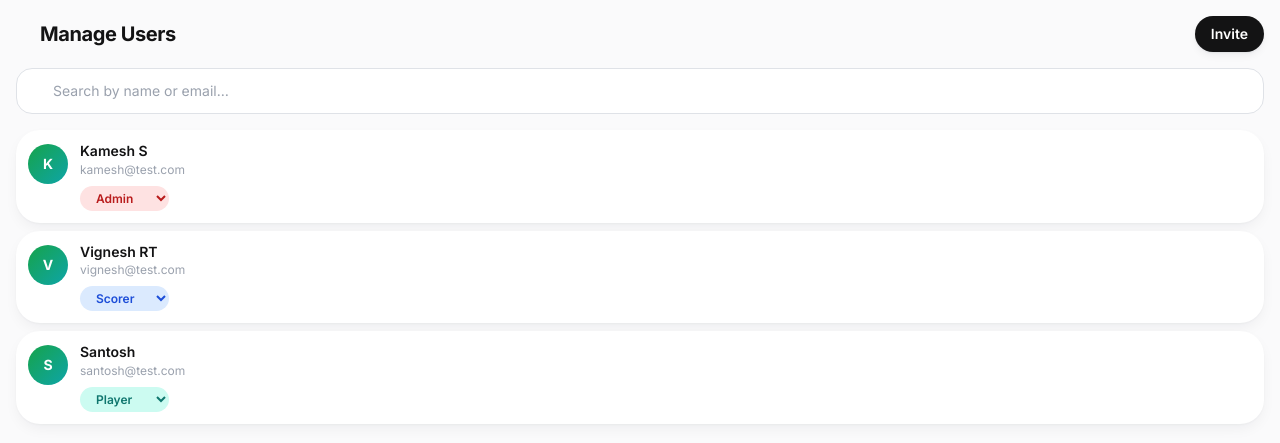
it: AdminUsers — search filter › shows no-match message when search has no results
Step 1. Type "zzznobody" into the field with placeholder "Search by name or email…" → x=640, y=91, box [16,68,1264,114]
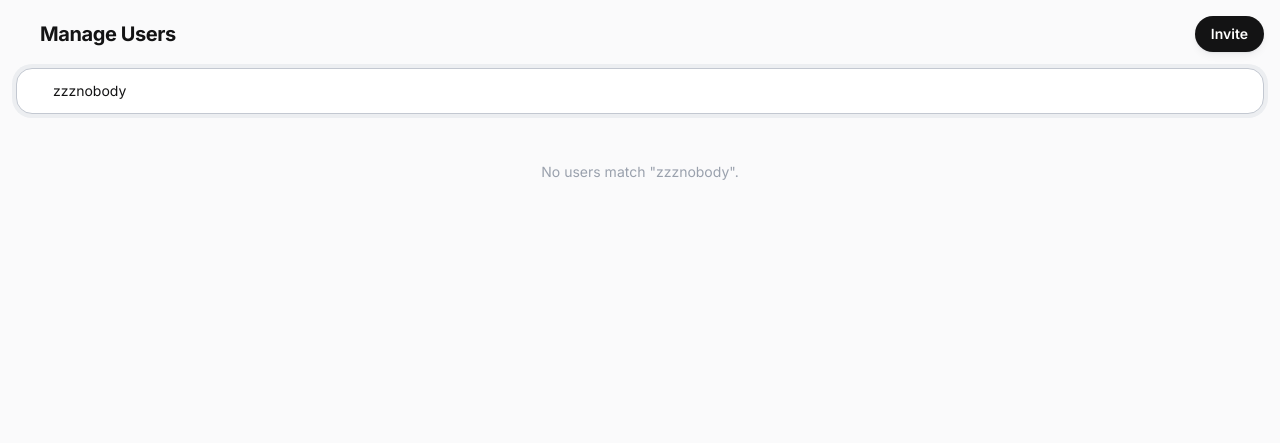
Expected: the text "No users match \"zzznobody\"." is shown, [541,163,739,180]
Expected: the text "Kamesh S" is gone
